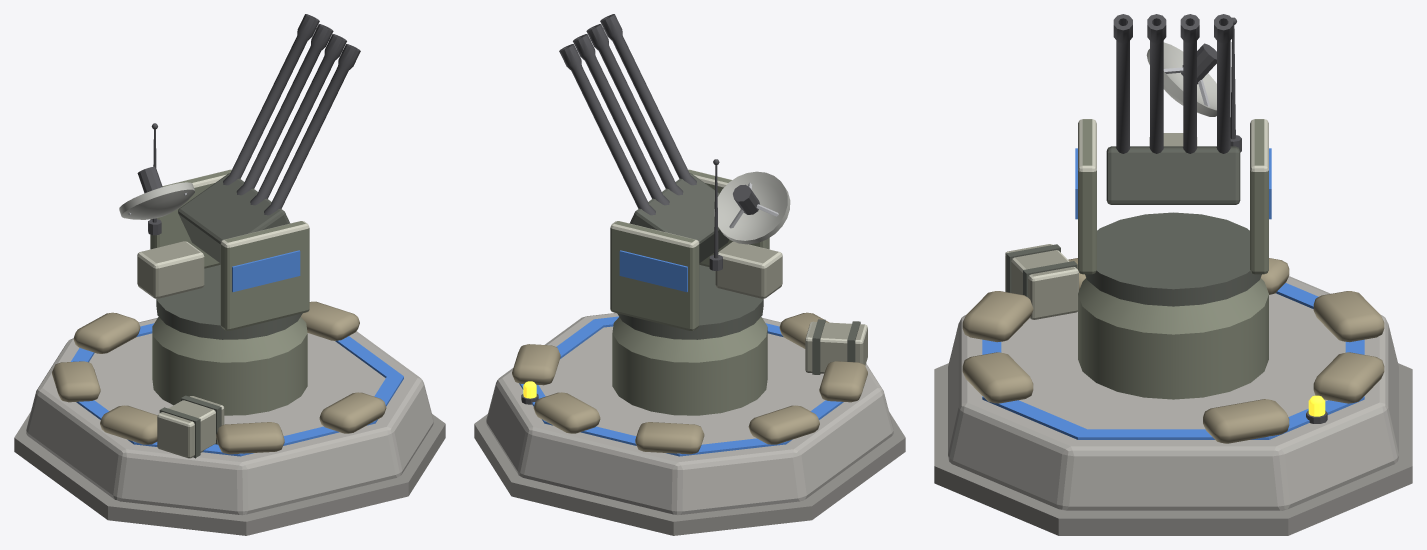
File: flak_cannon_blue.glb
3 views of the same model, side by side, from view 1: azimuth 30°, elevation 25°; view 2: azimuth 150°, elevation 25°; view 3: azimuth 270°, elevation 25° (orthographic). The views are drawn at different scales.
Parts seen in each view (by area): view 1: Body, Turret, Barrel; view 2: Body, Turret, Barrel; view 3: Body, Turret, Barrel.
Part boxes in pixels (x1=…): Body: x1=14, y1=301, x2=445, y2=535; Turret: x1=119, y1=123, x2=309, y2=339; Barrel: x1=223, y1=14, x2=360, y2=215; Body: x1=474, y1=312, x2=905, y2=535; Turret: x1=610, y1=159, x2=790, y2=339; Barrel: x1=559, y1=14, x2=696, y2=215; Body: x1=934, y1=244, x2=1412, y2=535; Turret: x1=1075, y1=17, x2=1271, y2=306; Barrel: x1=1113, y1=14, x2=1233, y2=153.
Bounding box in the file's own units: 2 × 2.21 × 2.
Materials: 1 (1 with a texture image).
